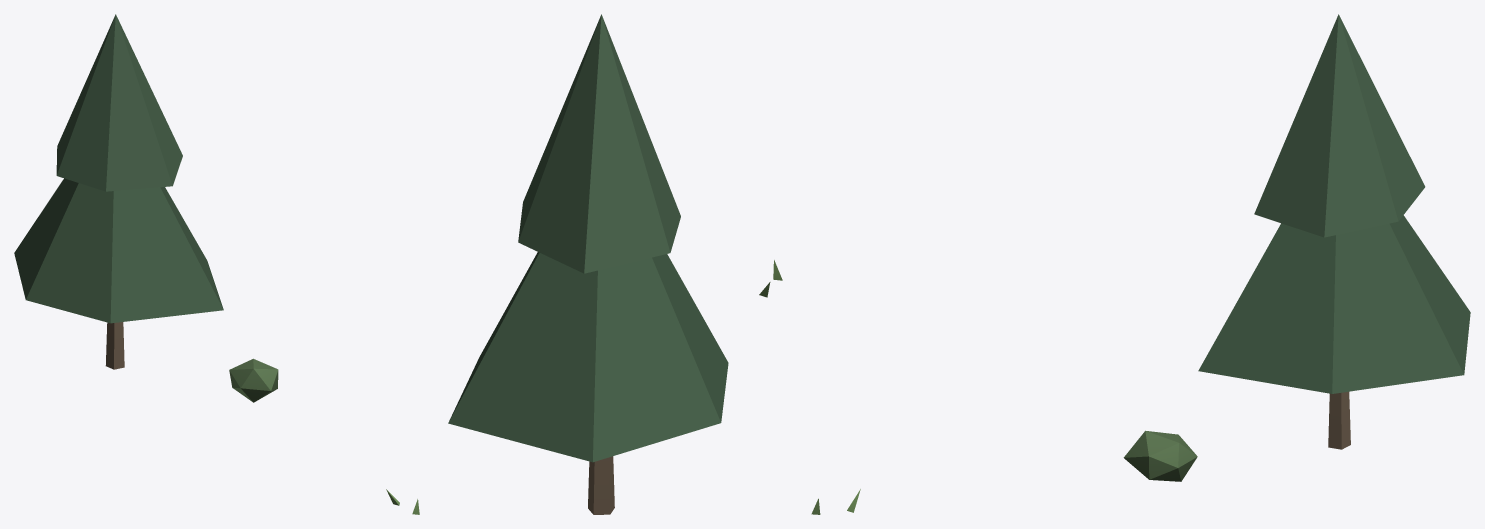
Rendered from arch_land_scatter_c18_19_lod1.glb.
The picture shows the model from 3 angles, left to right: view 1: azimuth 30°, elevation 25°; view 2: azimuth 150°, elevation 25°; view 3: azimuth 270°, elevation 25°; orthographic projection. The views are drawn at different scales.
Visible parts, largest first — view 1: arch_land_scatter_c18_19_lod1; view 2: arch_land_scatter_c18_19_lod1; view 3: arch_land_scatter_c18_19_lod1.
Part boxes in pixels (<box>): arch_land_scatter_c18_19_lod1: <box>14,14,419,514</box>; arch_land_scatter_c18_19_lod1: <box>448,14,782,514</box>; arch_land_scatter_c18_19_lod1: <box>811,14,1470,514</box>.
Size of the model in its own units: 6.25 by 12.28 by 16.41.
